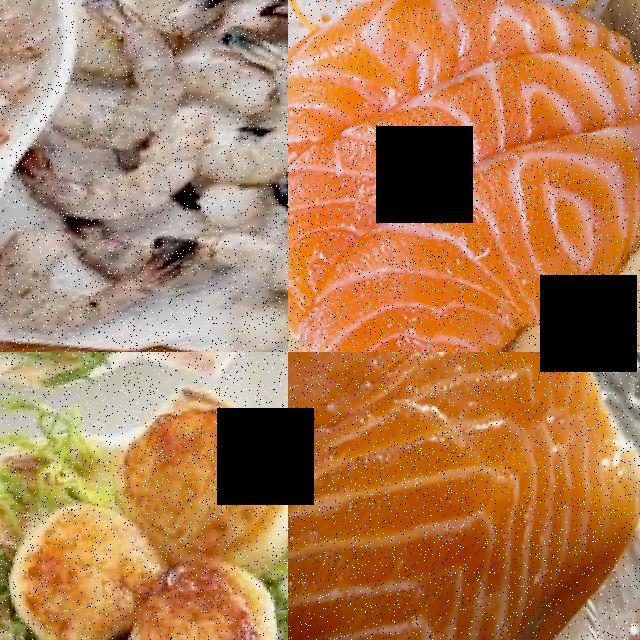salmon: (288, 352, 640, 640), (448, 0, 640, 317), (288, 208, 546, 352), (288, 0, 434, 168)
shrimp: (0, 204, 195, 338), (22, 115, 221, 231), (190, 39, 288, 189)
spinach: (112, 392, 288, 568), (0, 495, 152, 640), (147, 544, 288, 640)
